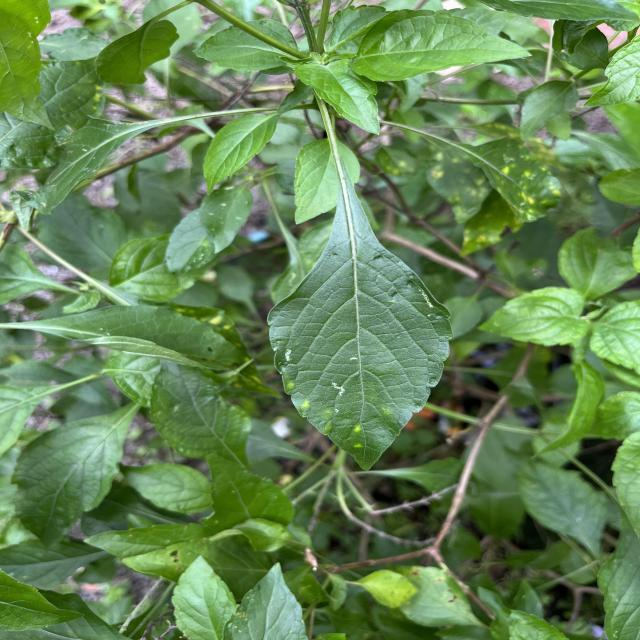Ocimum gratissimum: (263, 152, 457, 475), (341, 6, 537, 84)
